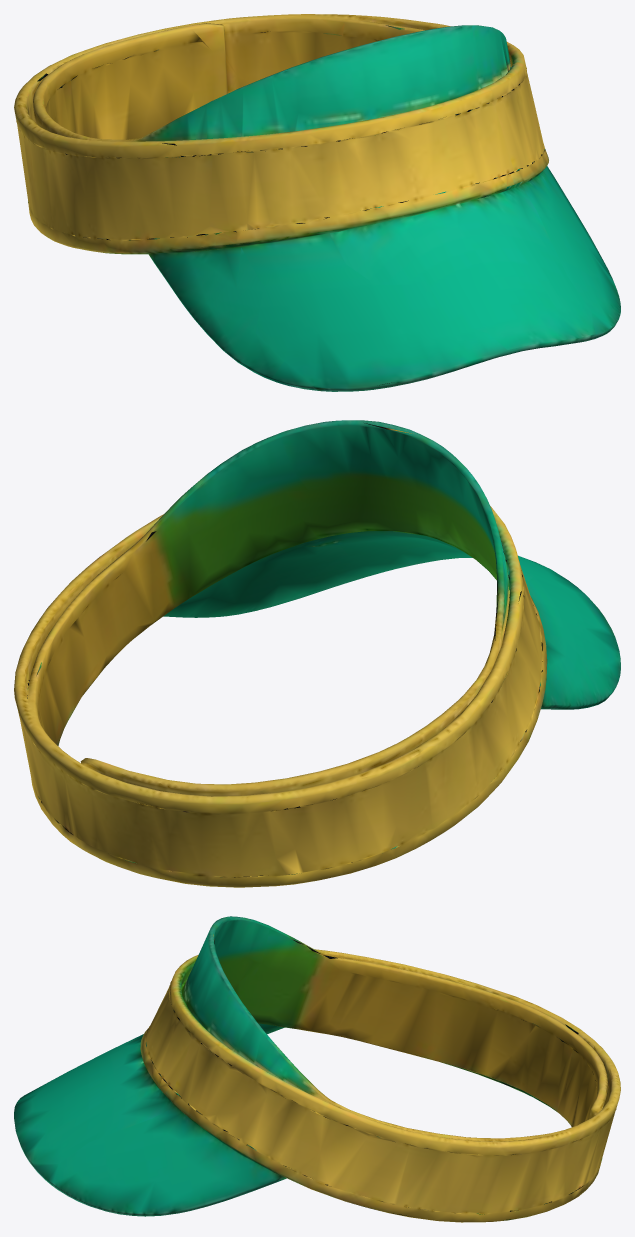
Rendered from visor.glb.
3 renders of one model, top to bottom at view 1: azimuth 30°, elevation 25°; view 2: azimuth 150°, elevation 25°; view 3: azimuth 270°, elevation 25°, orthographic. The views are drawn at different scales.
Visible parts, largest first — view 1: node_0; view 2: node_0; view 3: node_0.
Part boxes in pixels (box(x1,y1,x2,y2)): node_0: box(14, 14, 620, 391); node_0: box(14, 420, 620, 887); node_0: box(14, 916, 620, 1222).
Bounding box in the file's own units: 0.46 × 0.2827 × 0.6936.
1 material, 1 textured.
